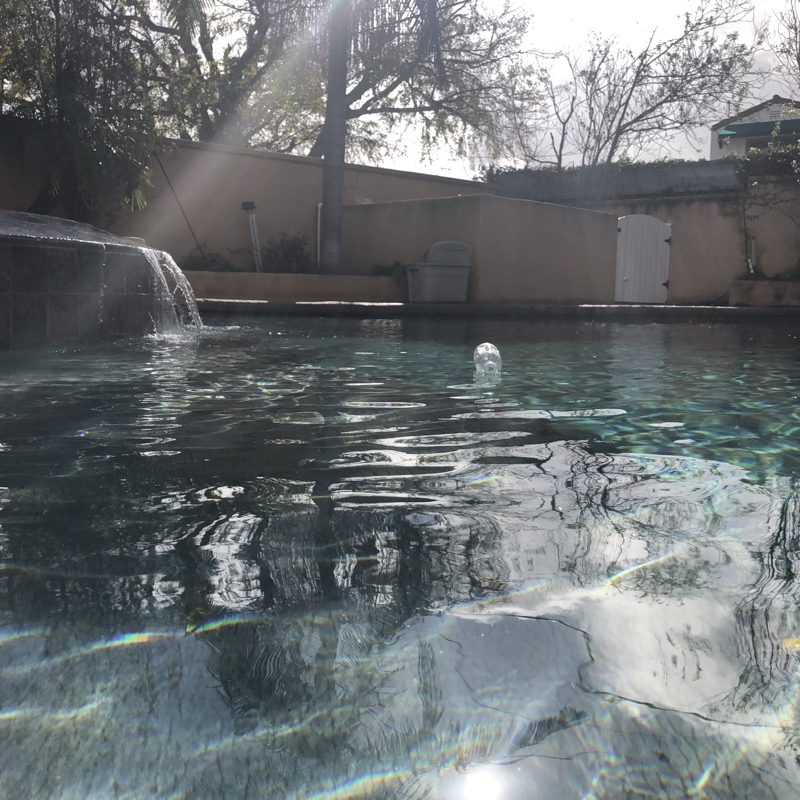Plastic Bottle: (471, 341, 501, 378)
